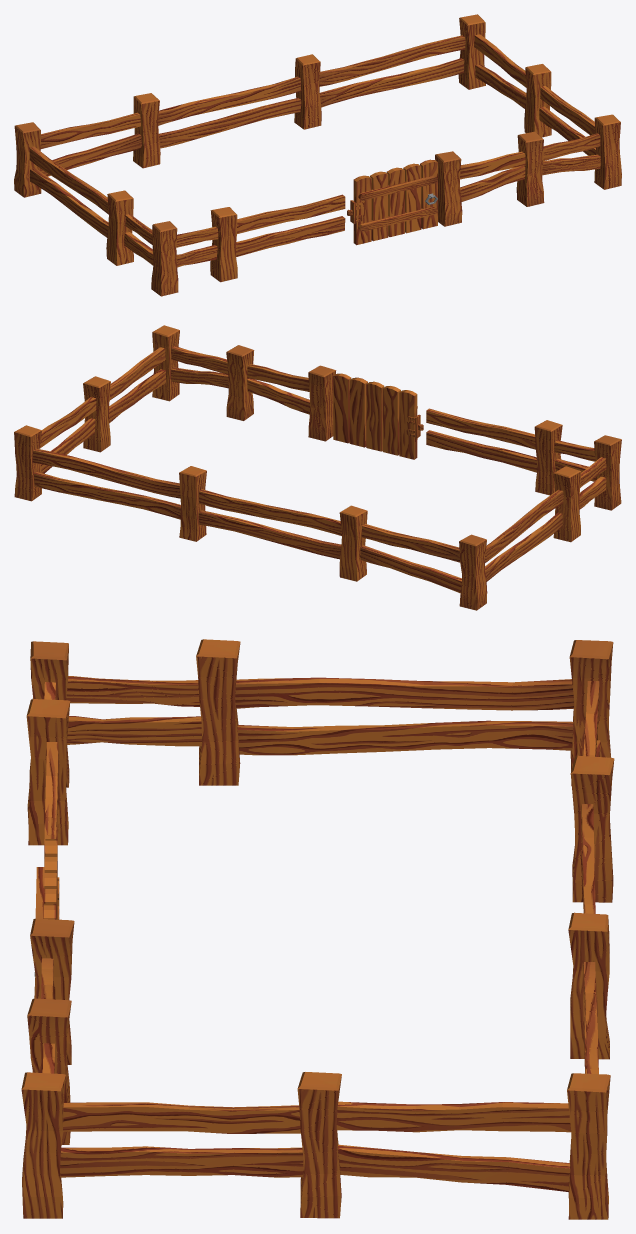
File: corral.obj
3 renders of one model, top to bottom at view 1: azimuth 30°, elevation 25°; view 2: azimuth 150°, elevation 25°; view 3: azimuth 270°, elevation 25°, orthographic. The views are drawn at different scales.
Parts seen in each view (by area): view 1: FenceType_1_001_Cube_002, DoorType_1_001_Cube_007, FenceType_2_001_Cube_003, FenceType_8_001_Cube_053, FenceType_12_001_Cube_008, FenceType_6_001_Cube_005, FenceType_2_002_Cube_012, FenceType_12_002_Cube_013, FenceType_7_001_Cube_010, FenceType_4_001_Cube_014, FenceType_10_001_Cube_058, FenceType_3_001_Cube_059; view 2: FenceType_1_001_Cube_002, FenceType_2_001_Cube_003, DoorType_1_001_Cube_007, FenceType_8_001_Cube_053, FenceType_12_001_Cube_008, FenceType_6_001_Cube_005, FenceType_2_002_Cube_012, FenceType_12_002_Cube_013, FenceType_7_001_Cube_010, FenceType_4_001_Cube_014, FenceType_10_001_Cube_058, FenceType_3_001_Cube_059; view 3: FenceType_2_002_Cube_012, FenceType_12_002_Cube_013, FenceType_7_001_Cube_010, FenceType_1_001_Cube_002, FenceType_4_001_Cube_014, FenceType_2_001_Cube_003, FenceType_8_001_Cube_053, FenceType_12_001_Cube_008, FenceType_6_001_Cube_005, DoorType_1_001_Cube_007.
Boxes of the visible parts, x1,y1,x2,y2 form: FenceType_1_001_Cube_002: (133,54,321,168); DoorType_1_001_Cube_007: (347,159,437,245); FenceType_2_001_Cube_003: (319,14,485,107); FenceType_8_001_Cube_053: (435,131,544,226); FenceType_12_001_Cube_008: (210,194,345,282); FenceType_6_001_Cube_005: (14,112,141,197); FenceType_2_002_Cube_012: (29,146,133,265); FenceType_12_002_Cube_013: (539,86,621,189); FenceType_7_001_Cube_010: (474,34,551,137); FenceType_4_001_Cube_014: (124,214,178,296); FenceType_10_001_Cube_058: (542,133,600,175); FenceType_3_001_Cube_059: (176,226,218,267); FenceType_1_001_Cube_002: (179,466,367,581); FenceType_2_001_Cube_003: (14,425,180,519); DoorType_1_001_Cube_007: (333,373,423,459); FenceType_8_001_Cube_053: (226,345,336,441); FenceType_12_001_Cube_008: (426,408,562,495); FenceType_6_001_Cube_005: (360,524,487,610); FenceType_2_002_Cube_012: (484,466,581,581); FenceType_12_002_Cube_013: (109,325,179,422); FenceType_7_001_Cube_010: (40,376,110,473); FenceType_4_001_Cube_014: (579,435,621,510); FenceType_10_001_Cube_058: (171,346,228,388); FenceType_3_001_Cube_059: (554,440,595,481); FenceType_2_002_Cube_012: (196,639,573,785); FenceType_12_002_Cube_013: (21,1072,303,1218); FenceType_7_001_Cube_010: (297,1072,571,1218); FenceType_1_001_Cube_002: (568,755,614,1059); FenceType_4_001_Cube_014: (29,641,202,787); FenceType_2_001_Cube_003: (567,962,610,1219); FenceType_8_001_Cube_053: (27,918,74,1144); FenceType_12_001_Cube_008: (26,699,70,866); FenceType_6_001_Cube_005: (569,640,613,785); DoorType_1_001_Cube_007: (34,839,59,976).
Size of the model in its own units: 7.14 by 0.9584 by 3.95.
Materials: 3 (2 with a texture image).
